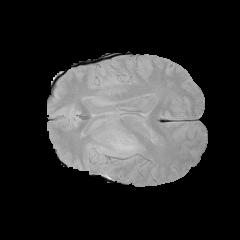glioma: (98, 134, 140, 156)
